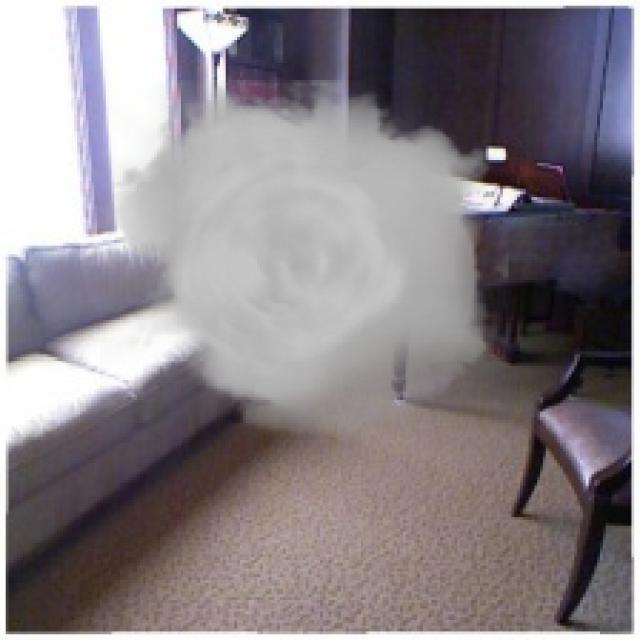Smoke: (100, 80, 509, 437)
